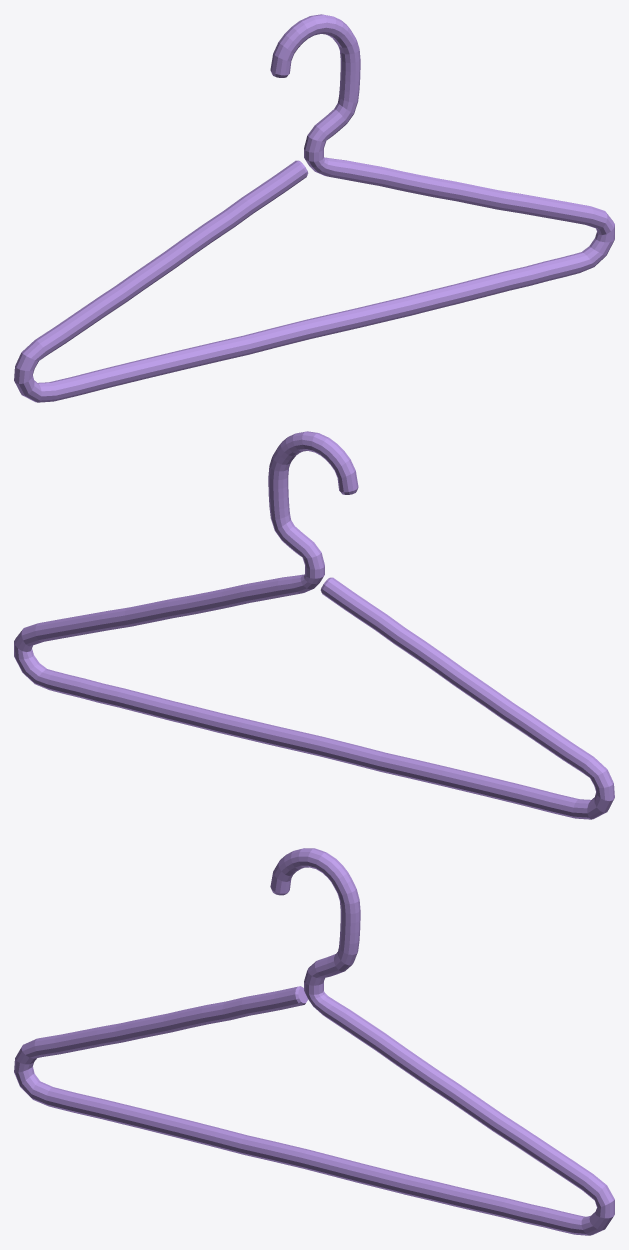
The model's file is Friday_Hanger.fbx.
3 views of the same model, one above another, from view 1: azimuth 30°, elevation 25°; view 2: azimuth 150°, elevation 25°; view 3: azimuth 330°, elevation 25° (orthographic).
Visible parts, largest first — view 1: Hanger; view 2: Hanger; view 3: Hanger.
Boxes of the visible parts, x1,y1,x2,y2 form: Hanger: (14,14,614,402); Hanger: (14,431,614,819); Hanger: (14,848,614,1235).
Size of the model in its own units: 43.62 by 22.43 by 1.26.
